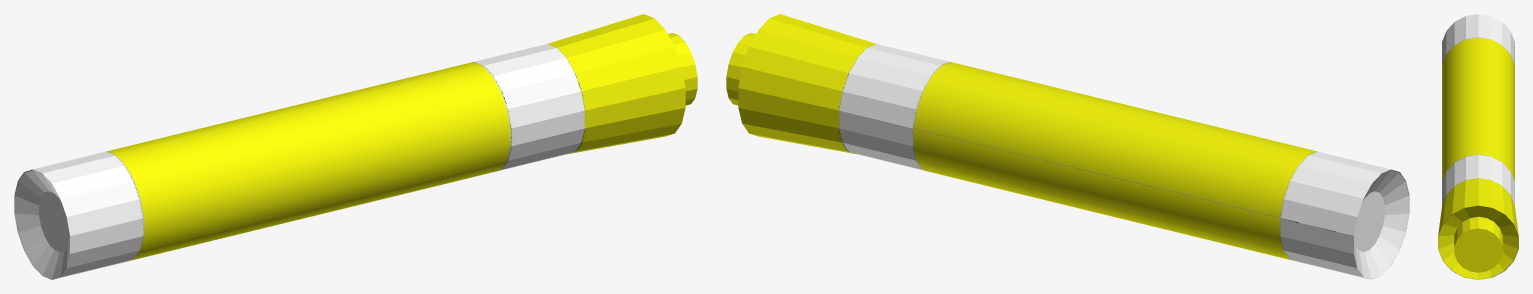
File: yellow marker.FBX
3 renders of one model, left to right at view 1: azimuth 30°, elevation 25°; view 2: azimuth 150°, elevation 25°; view 3: azimuth 270°, elevation 25°, orthographic. The views are drawn at different scales.
Visible parts, largest first — view 1: Cylinder004; view 2: Cylinder004; view 3: Cylinder004.
Boxes of the visible parts, x1=… form: Cylinder004: x1=14, y1=14, x2=697, y2=279; Cylinder004: x1=726, y1=14, x2=1409, y2=279; Cylinder004: x1=1438, y1=14, x2=1518, y2=279.
Size of the model in its own units: 26 by 4.44 by 4.37.
1 material, 1 textured.
